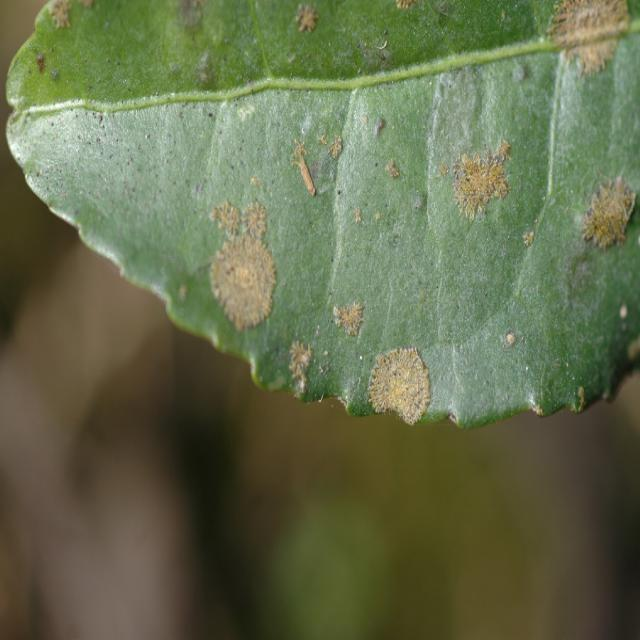Tea algae leaf spot: (167, 160, 305, 342), (563, 127, 634, 252), (440, 121, 520, 220), (542, 7, 629, 75), (376, 341, 434, 426), (324, 291, 379, 338), (285, 335, 320, 406)
